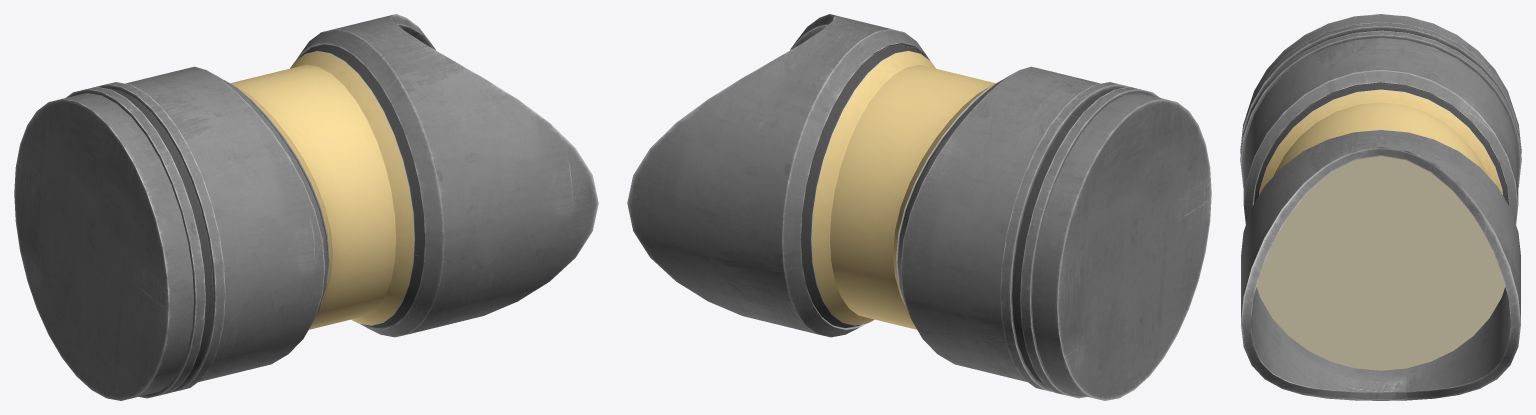
The model's file is guard_5_c_b.glb.
3 views of the same model, side by side, from view 1: azimuth 30°, elevation 25°; view 2: azimuth 150°, elevation 25°; view 3: azimuth 270°, elevation 25° (orthographic). The views are drawn at different scales.
Parts seen in each view (by area): view 1: guard_5_c_b_lod0; view 2: guard_5_c_b_lod0; view 3: guard_5_c_b_lod0.
Part boxes in pixels (box(x1,y1,x2,y2)): guard_5_c_b_lod0: box(14, 14, 598, 400); guard_5_c_b_lod0: box(627, 14, 1211, 400); guard_5_c_b_lod0: box(1240, 14, 1521, 400).
Size of what is drawn, in the model's own units: 0.0477 by 0.0305 by 0.0305.
1 material, 1 textured.
